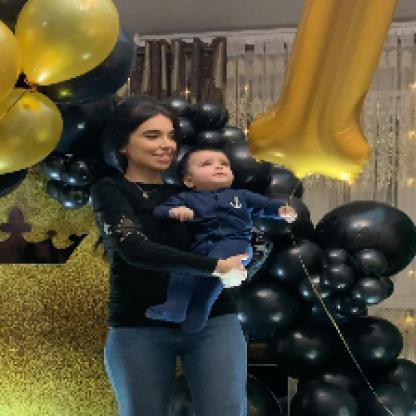child: (146, 147, 297, 335)
